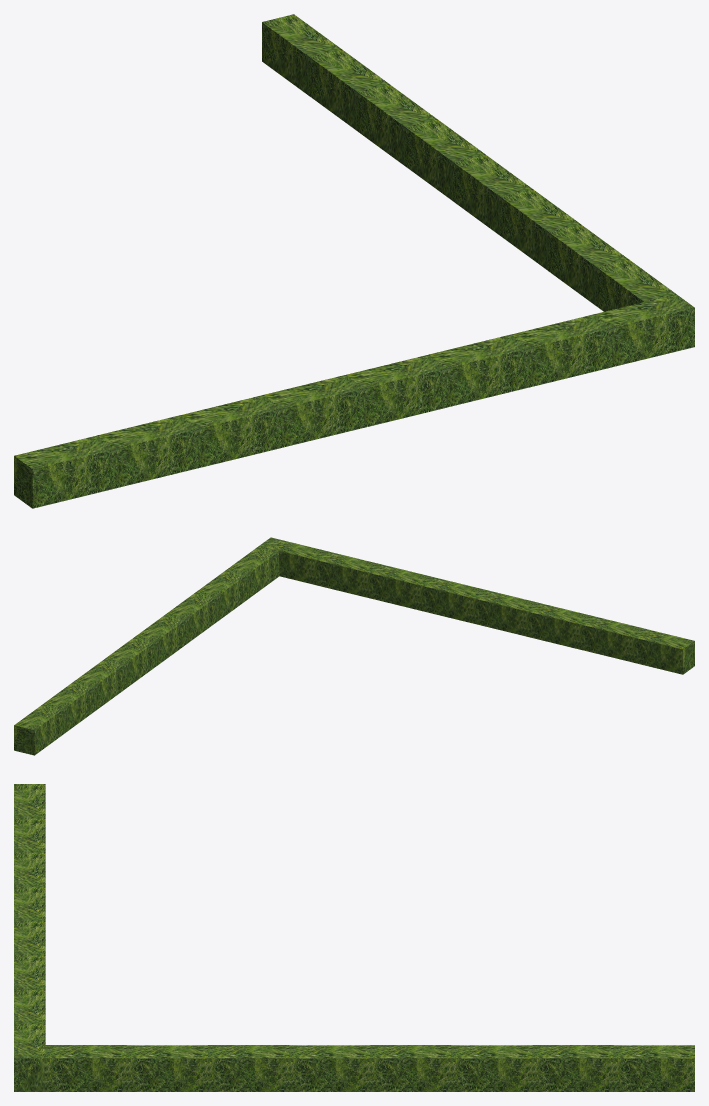
The model's file is Bloquepasto.obj.
3 views of the same model, one above another, from view 1: azimuth 30°, elevation 25°; view 2: azimuth 150°, elevation 25°; view 3: azimuth 270°, elevation 25° (orthographic). The views are drawn at different scales.
Visible parts, largest first — view 1: Cube.001; view 2: Cube.001; view 3: Cube.001.
Boxes of the visible parts, x1,y1,x2,y2 form: Cube.001: (14, 14, 694, 508); Cube.001: (14, 537, 694, 755); Cube.001: (14, 784, 694, 1091).
Size of the model in its own units: 82.38 by 4.69 by 86.37.
